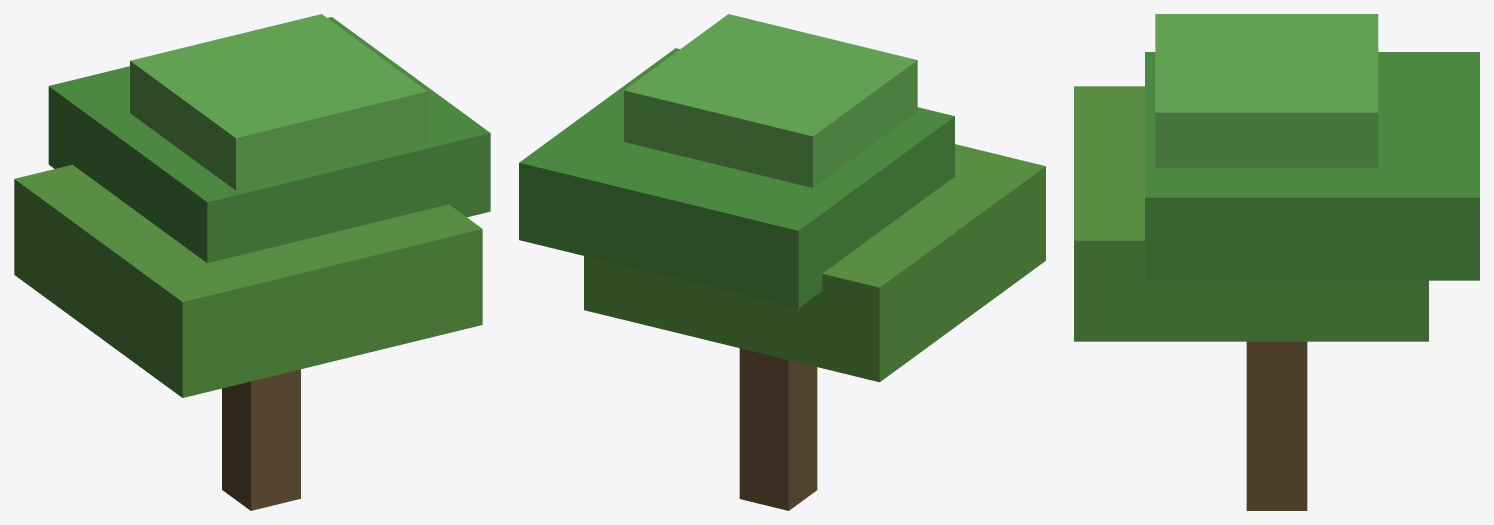
The model's file is tree_clump_0.glb.
The picture shows the model from 3 angles, left to right: view 1: azimuth 30°, elevation 25°; view 2: azimuth 150°, elevation 25°; view 3: azimuth 270°, elevation 25°; orthographic projection. The views are drawn at different scales.
Visible parts, largest first — view 1: body; view 2: body; view 3: body.
Boxes of the visible parts, x1,y1,x2,y2 form: body: (14, 14, 490, 510); body: (519, 14, 1045, 510); body: (1074, 14, 1479, 510).
Size of the model in its own units: 3.28 by 3.84 by 3.2.
